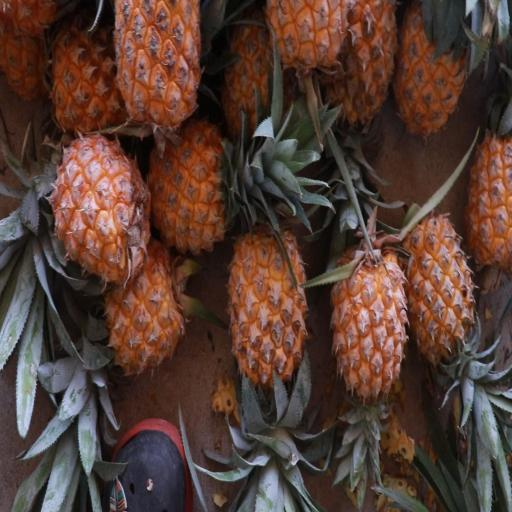Pineapple - v8 v1: (224, 214, 312, 426), (142, 112, 266, 258), (46, 130, 156, 294), (326, 230, 411, 414), (95, 232, 189, 386), (398, 208, 476, 386), (110, 0, 204, 139), (390, 0, 472, 142), (463, 84, 512, 279)
